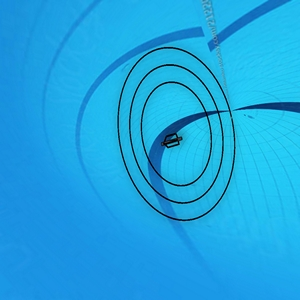circle: (112, 41, 240, 226)
submarine: (159, 132, 182, 147)
